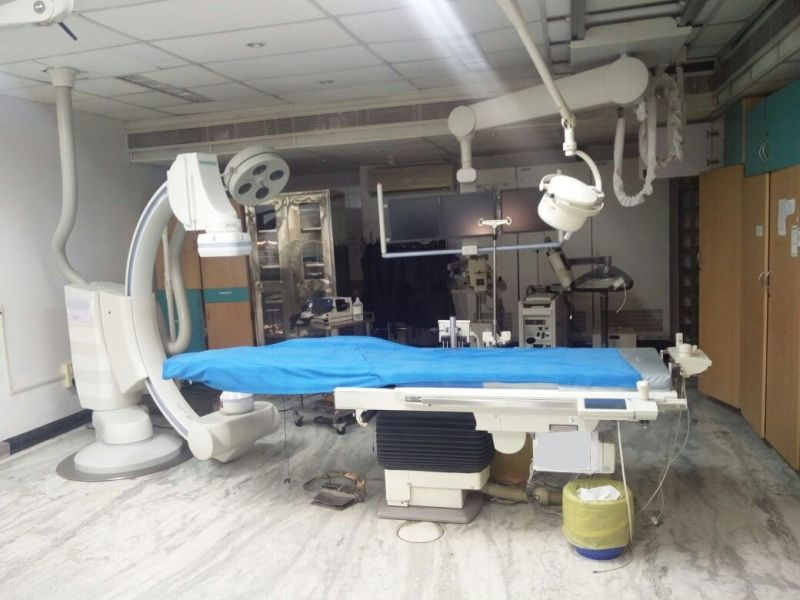bedside_monitor: (440, 189, 495, 243), (387, 197, 441, 244), (498, 189, 551, 232)
cabinet: (699, 167, 795, 468), (243, 196, 343, 338)
handle: (755, 139, 771, 163), (693, 252, 704, 277), (759, 270, 770, 295), (765, 270, 776, 295)
operating_bed: (159, 330, 729, 530)
surgical_light: (227, 145, 294, 209), (194, 228, 252, 262)
waste_bin: (557, 480, 636, 564)
